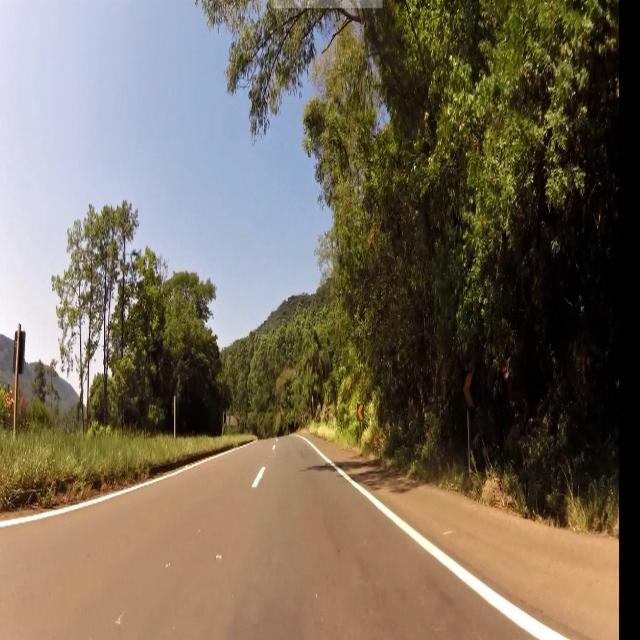Del: (465, 368, 472, 413), (356, 404, 364, 422)
